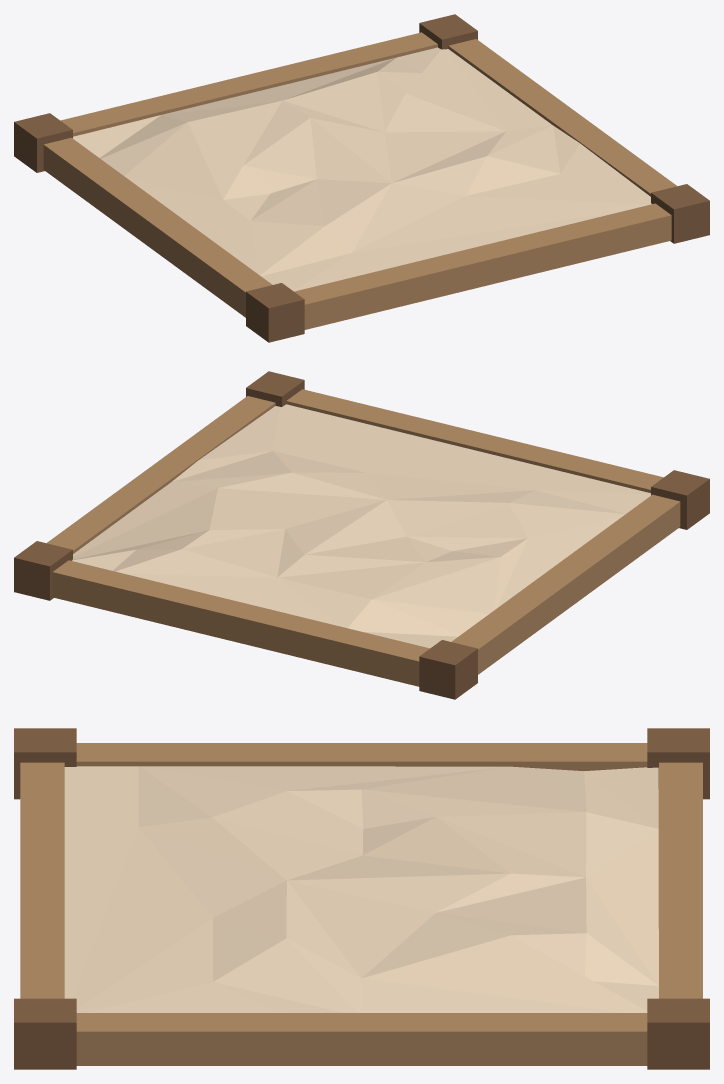
Rendered from SM_sandbox_playground_01.fbx.
3 renders of one model, top to bottom at view 1: azimuth 30°, elevation 25°; view 2: azimuth 150°, elevation 25°; view 3: azimuth 270°, elevation 25°, orthographic. The views are drawn at different scales.
Visible parts, largest first — view 1: Box5743; view 2: Box5743; view 3: Box5743.
Boxes of the visible parts, x1,y1,x2,y2 form: Box5743: [14, 14, 709, 342]; Box5743: [14, 371, 709, 699]; Box5743: [14, 728, 709, 1069].
Bounding box in the file's own units: 112 × 9.67 × 112.
